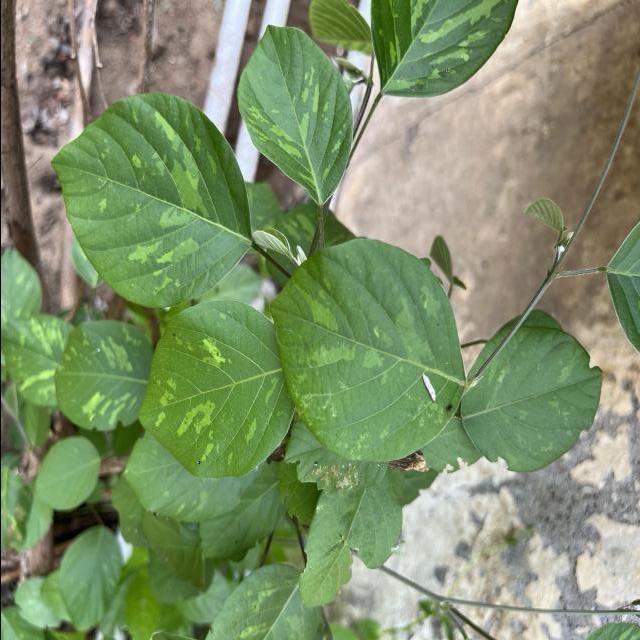Desmodium gangeticum: (264, 235, 471, 465), (46, 89, 258, 312), (134, 296, 295, 483), (235, 21, 357, 210), (368, 0, 522, 104)
